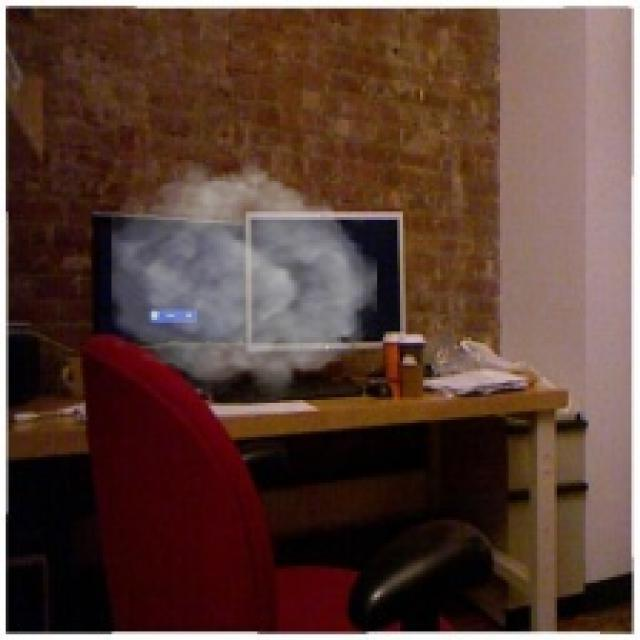Smoke: (111, 154, 378, 400)
